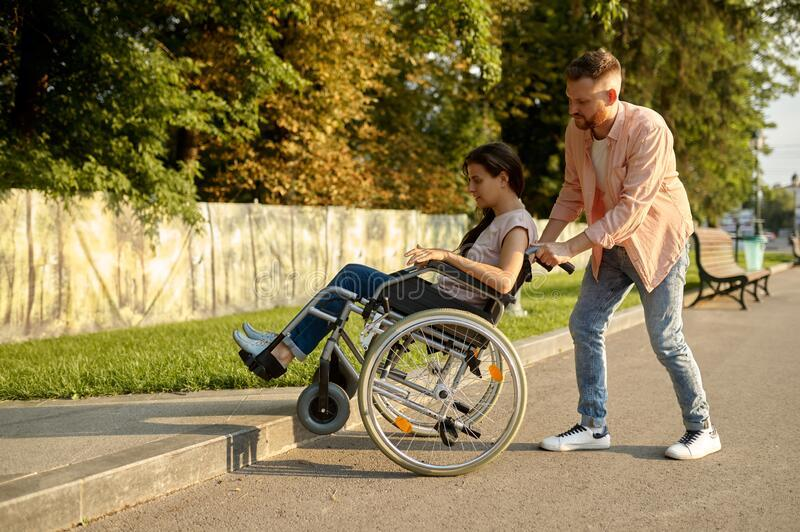push_wheelchair: (519, 48, 723, 460)
wheelchair: (232, 142, 575, 477)
